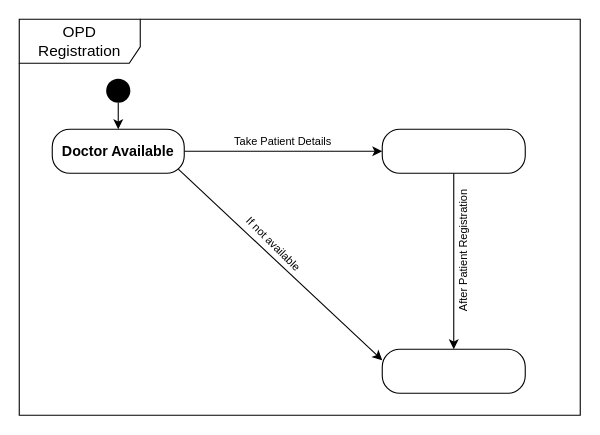
This 600x435 diagram has some shape labels left out. The shapes that lost their labels are listed below. From the top down, each one's centre as x and y in pixels, then its label:
At point (453, 150): "Patient Registered".
At point (453, 370): "Return".
